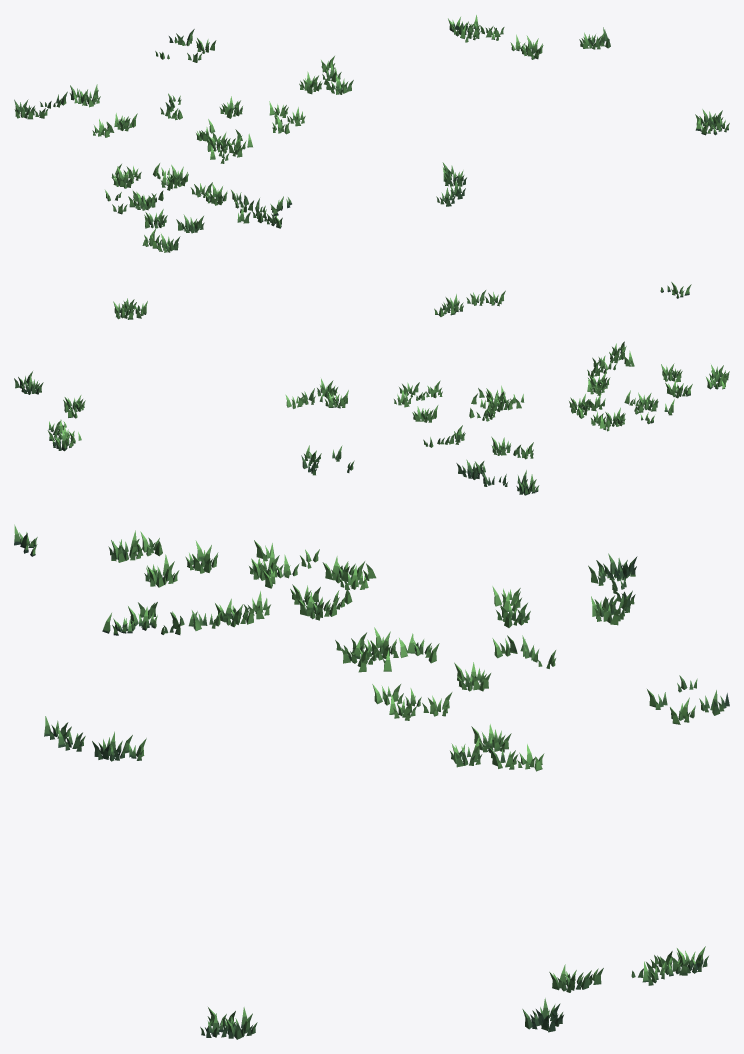
The model's file is Plant_02.FBX.
3 renders of one model, top to bottom at view 1: azimuth 30°, elevation 25°; view 2: azimuth 150°, elevation 25°; view 3: azimuth 270°, elevation 25°, orthographic. The views are drawn at different scales.
Parts seen in each view (by area): view 1: Plant_02; view 2: Plant_02; view 3: Plant_02.
Part boxes in pixels (x1,y1,x2,y2): Plant_02: (14,15,729,252); Plant_02: (14,282,729,495); Plant_02: (14,524,729,1039).
Bounding box in the file's own units: 35.87 × 5.93 × 25.31.
